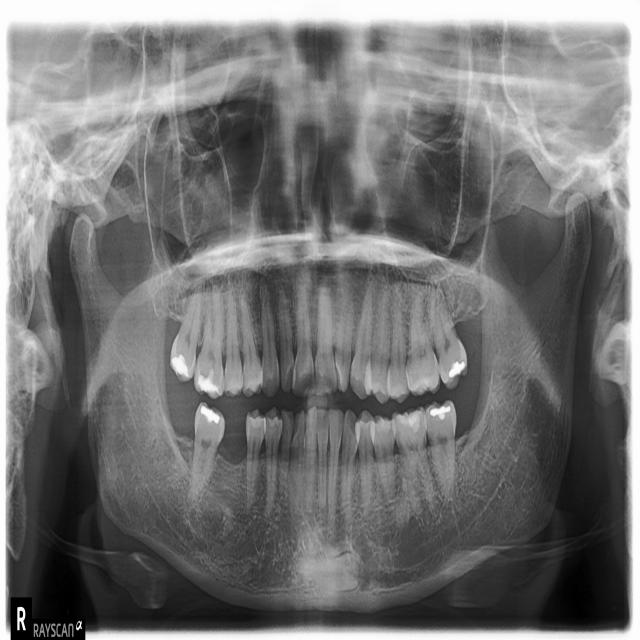mandibula: (67, 188, 592, 616)
